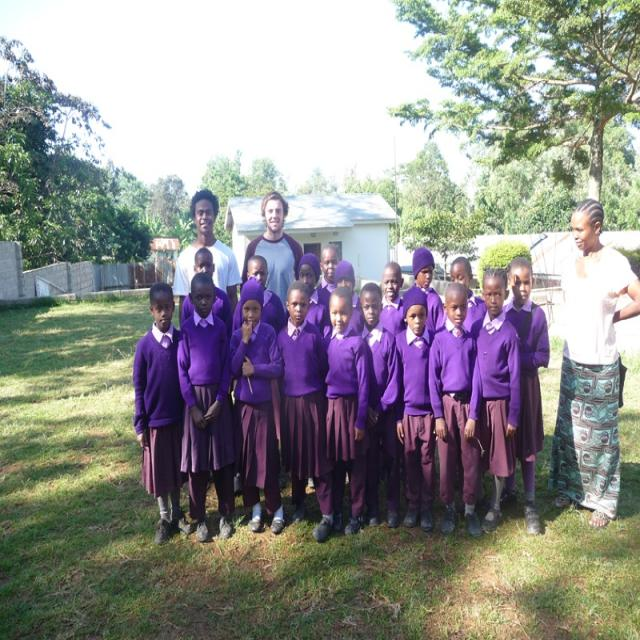body: (548, 196, 639, 529), (130, 280, 195, 545), (172, 271, 234, 544), (272, 277, 334, 543), (466, 266, 524, 533), (226, 278, 286, 536), (426, 279, 484, 540), (498, 255, 551, 536), (317, 285, 368, 536), (358, 281, 402, 529), (393, 285, 435, 531), (171, 186, 241, 330), (240, 188, 305, 314), (179, 246, 233, 340), (230, 252, 288, 338), (440, 255, 488, 339), (403, 246, 445, 335), (296, 252, 330, 333), (314, 244, 341, 331), (379, 260, 408, 336), (333, 259, 363, 315)
